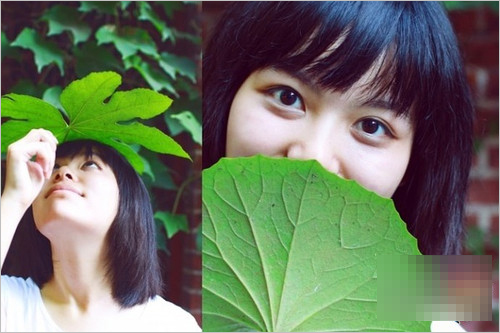face: (225, 35, 415, 224), (30, 146, 117, 235)
